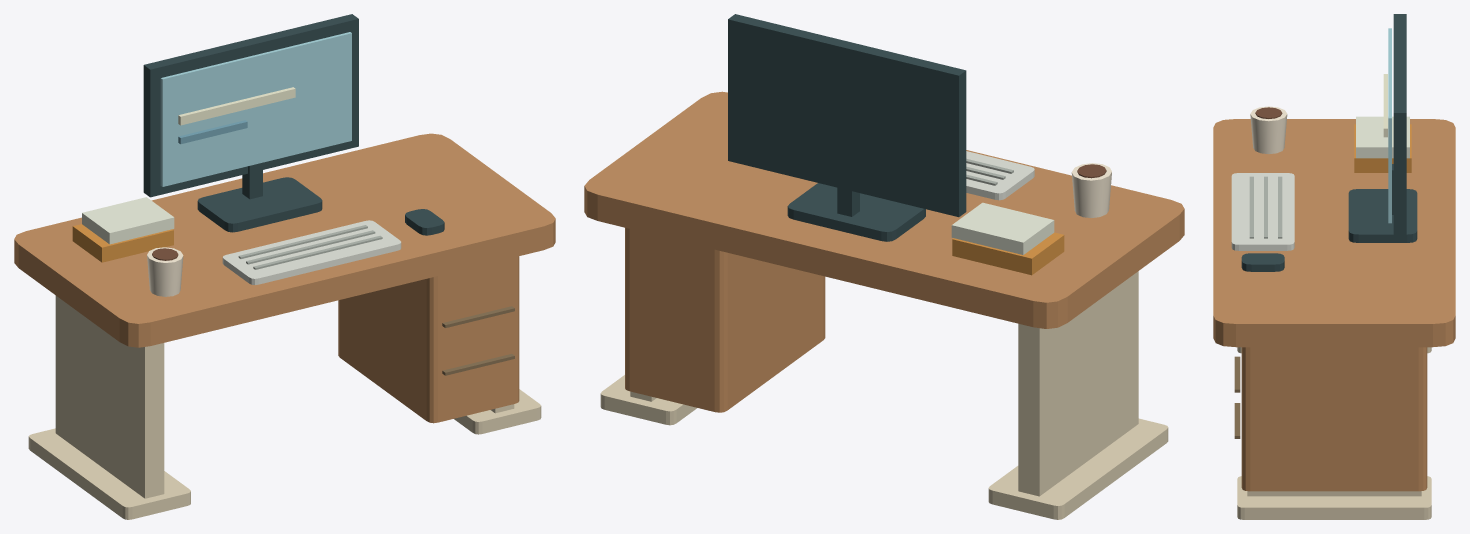
File: desk-v2.glb
The picture shows the model from 3 angles, left to right: view 1: azimuth 30°, elevation 25°; view 2: azimuth 150°, elevation 25°; view 3: azimuth 270°, elevation 25°; orthographic projection. The views are drawn at different scales.
Parts seen in each view (by area): view 1: desk-studio; view 2: desk-studio; view 3: desk-studio.
Part boxes in pixels (x1=…): desk-studio: x1=14, y1=14, x2=555, y2=519; desk-studio: x1=584, y1=14, x2=1184, y2=519; desk-studio: x1=1213, y1=14, x2=1455, y2=519.
Size of the model in its own units: 1.6 by 1.3 by 0.8.
